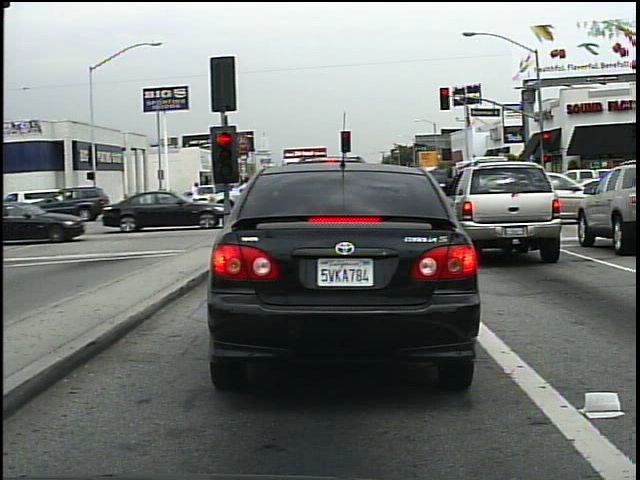person: (184, 177, 206, 216)
